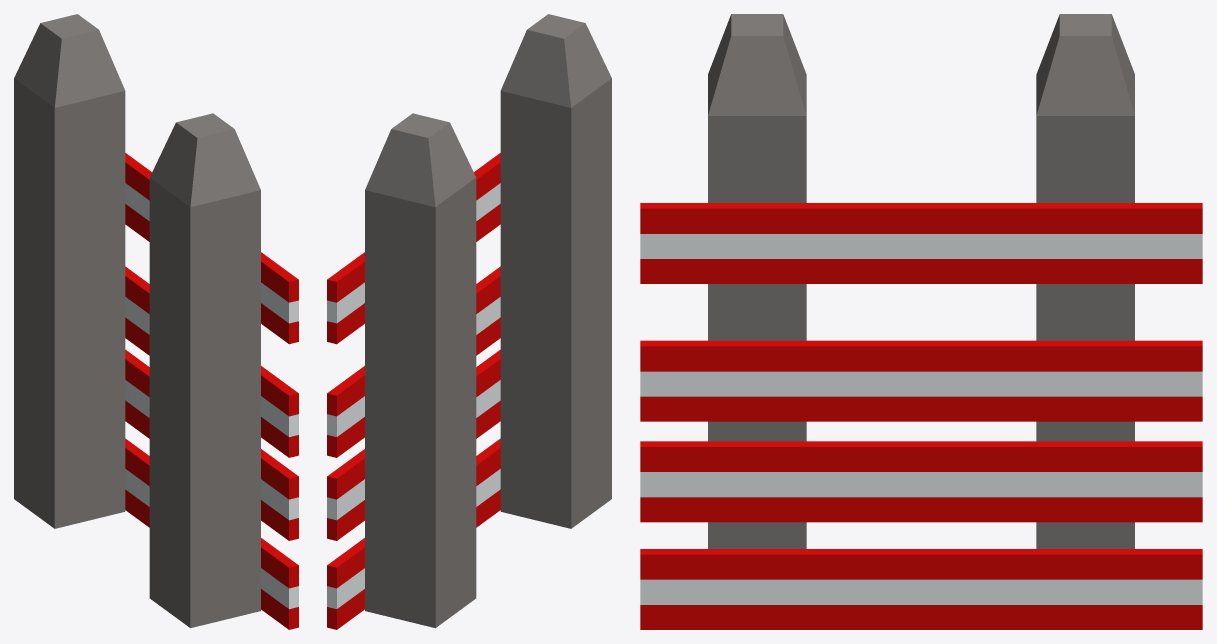
File: low_obstacle.fbx
3 renders of one model, left to right at view 1: azimuth 30°, elevation 25°; view 2: azimuth 150°, elevation 25°; view 3: azimuth 270°, elevation 25°, orthographic. The views are drawn at different scales.
Visible parts, largest first — view 1: Cube.005; view 2: Cube.005; view 3: Cube.005.
Part boxes in pixels (box(x1,y1,x2,y2)): Cube.005: box(14, 14, 298, 629); Cube.005: box(327, 14, 611, 629); Cube.005: box(640, 14, 1202, 629).
Bounding box in the file's own units: 9.48 × 53.88 × 47.33.
